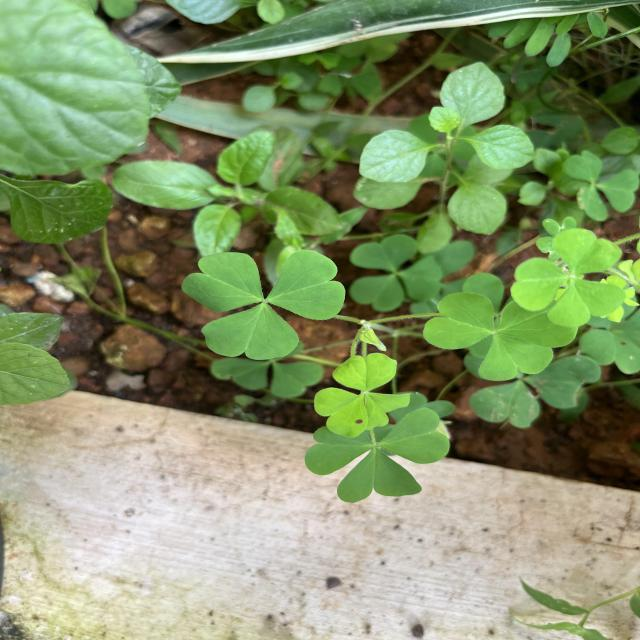Oxalis corniculata: (180, 249, 346, 360), (304, 406, 451, 504), (422, 291, 579, 382), (510, 226, 627, 328), (314, 352, 412, 439)
